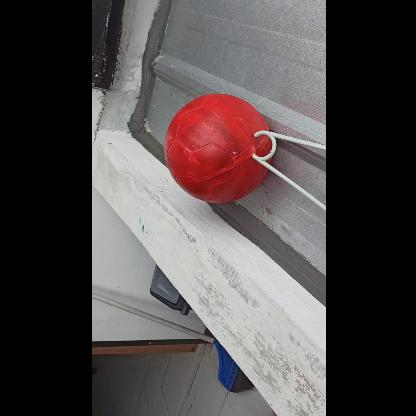red_ball: (162, 93, 270, 201)
